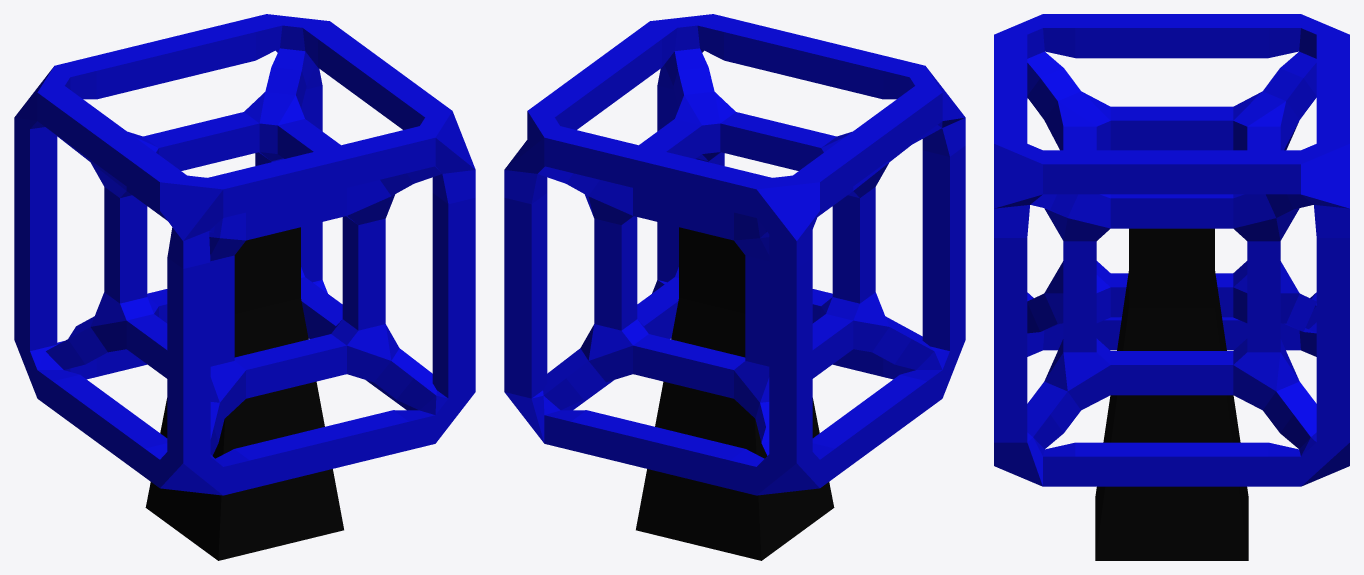
The model's file is teseractic.fbx.
3 renders of one model, left to right at view 1: azimuth 30°, elevation 25°; view 2: azimuth 150°, elevation 25°; view 3: azimuth 270°, elevation 25°, orthographic. The views are drawn at different scales.
Visible parts, largest first — view 1: Cube.001, Cube; view 2: Cube.001, Cube; view 3: Cube.001, Cube.
Boxes of the visible parts, left/top/right/bottom form: Cube.001: left=14, top=14, right=475, bottom=495; Cube: left=145, top=227, right=343, bottom=560; Cube.001: left=504, top=14, right=965, bottom=495; Cube: left=636, top=227, right=834, bottom=560; Cube.001: left=994, top=14, right=1349, bottom=486; Cube: left=1095, top=228, right=1248, bottom=560.
Bounding box in the file's own units: 116 × 158 × 116.
